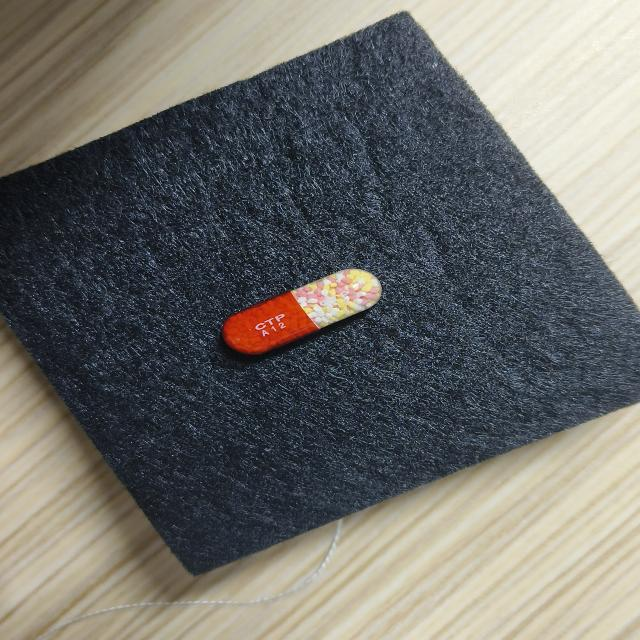Intact Capsule: (222, 269, 382, 355)
